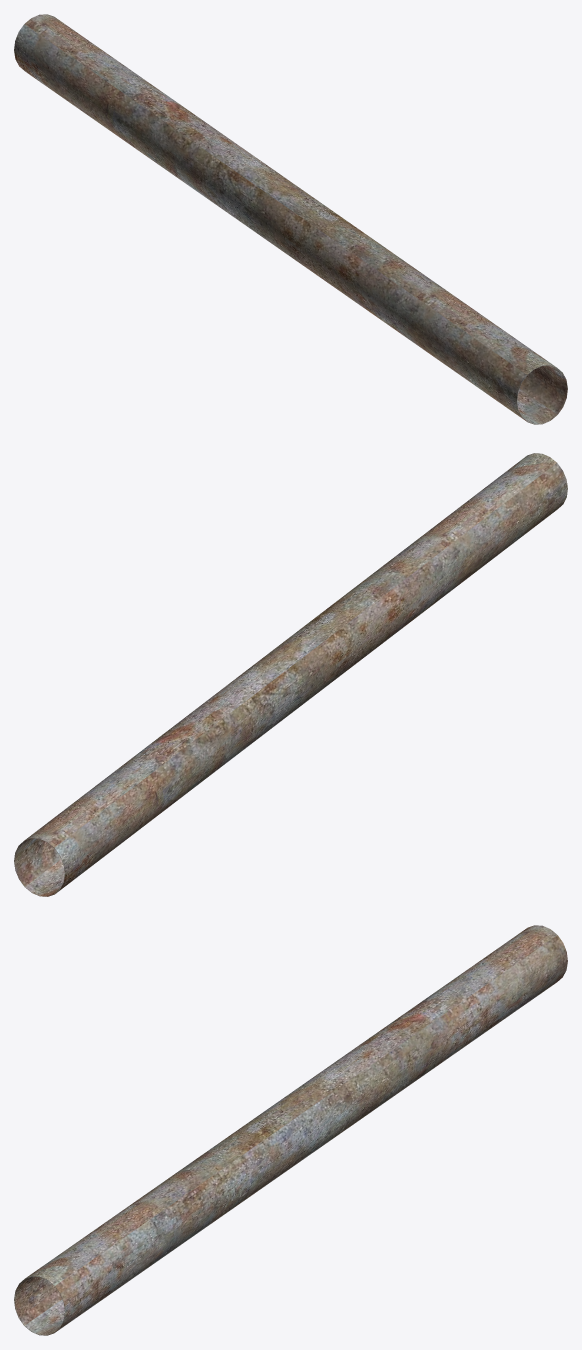
The model's file is gaspipe_Small_Straight.fbx.
3 views of the same model, one above another, from view 1: azimuth 30°, elevation 25°; view 2: azimuth 150°, elevation 25°; view 3: azimuth 330°, elevation 25° (orthographic).
Visible parts, largest first — view 1: pPipe7; view 2: pPipe7; view 3: pPipe7.
Boxes of the visible parts, x1,y1,x2,y2 form: pPipe7: (14,14,567,424); pPipe7: (14,453,567,896); pPipe7: (14,925,567,1335).
Size of the model in its own units: 0.6446 by 0.9037 by 10.99.
1 material, 1 textured.
